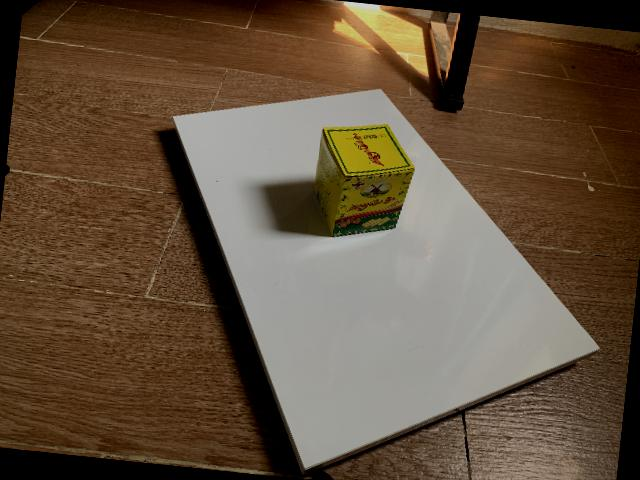luong_kho: (314, 124, 415, 238)
